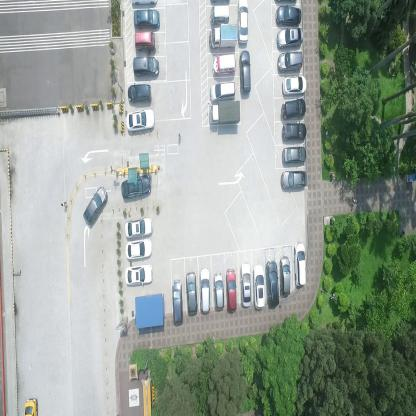car: (84, 186, 108, 227), (207, 100, 240, 128), (126, 108, 156, 135), (121, 174, 152, 200), (208, 25, 238, 51), (124, 215, 154, 241), (124, 262, 154, 288), (125, 238, 153, 261), (252, 263, 266, 309), (293, 239, 306, 288), (266, 259, 279, 307), (275, 27, 303, 49), (211, 54, 236, 78), (280, 169, 306, 192), (133, 56, 159, 79), (185, 271, 198, 316), (199, 266, 211, 314), (172, 278, 184, 326), (281, 98, 306, 121), (210, 81, 236, 103), (133, 8, 160, 29), (236, 0, 248, 46), (277, 51, 302, 73), (127, 84, 152, 106), (239, 49, 251, 94), (282, 74, 306, 96), (282, 144, 306, 166), (240, 260, 251, 308), (274, 5, 301, 24), (226, 266, 237, 312), (279, 256, 291, 298), (134, 30, 156, 52), (213, 270, 225, 310), (281, 122, 307, 140), (208, 5, 228, 27), (23, 397, 39, 415)
